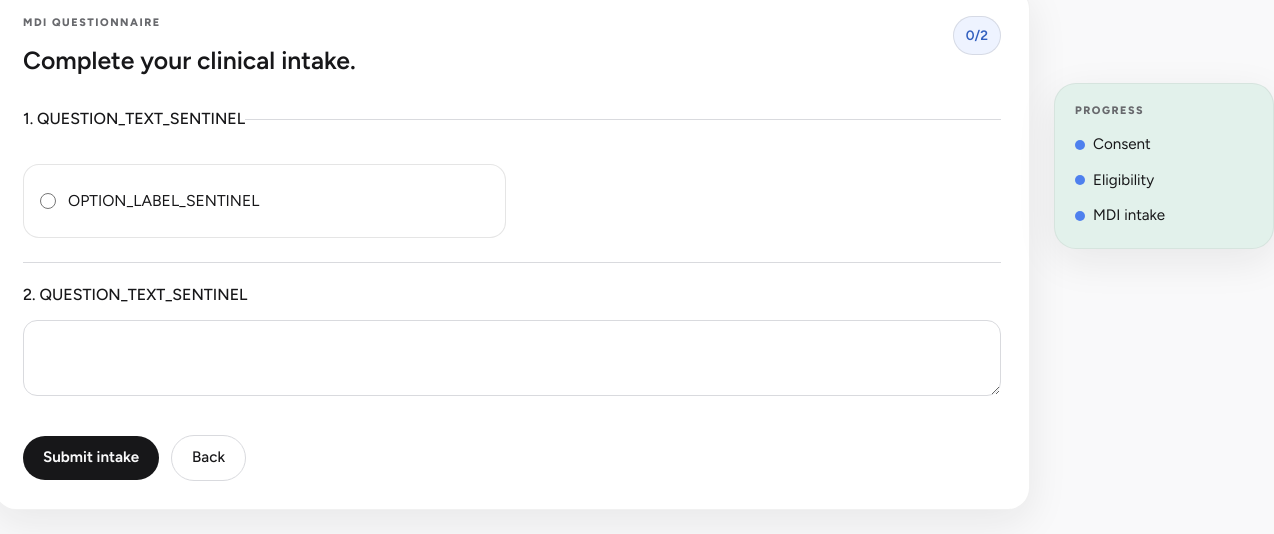
Test case: MDI intake page › renders fixture questions after bootstrap and submits transient responses with CSRF
Expected: the text "1. QUESTION_TEXT_SENTINEL" is shown, [23,108,245,132]
Click the radio button labelled "OPTION_LABEL_SENTINEL" at (48, 201), box [40,177,56,225]
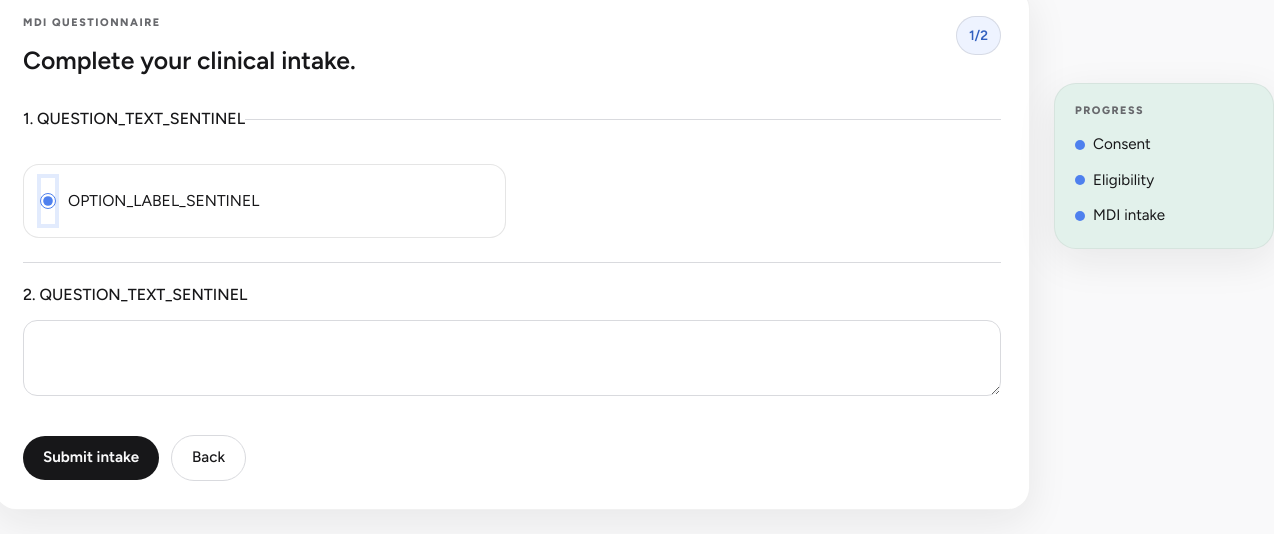
Type "ANSWER_VALUE_SENTINEL" into the text box labelled "2. QUESTION_TEXT_SENTINEL" at (512, 358), box [23,320,1001,396]
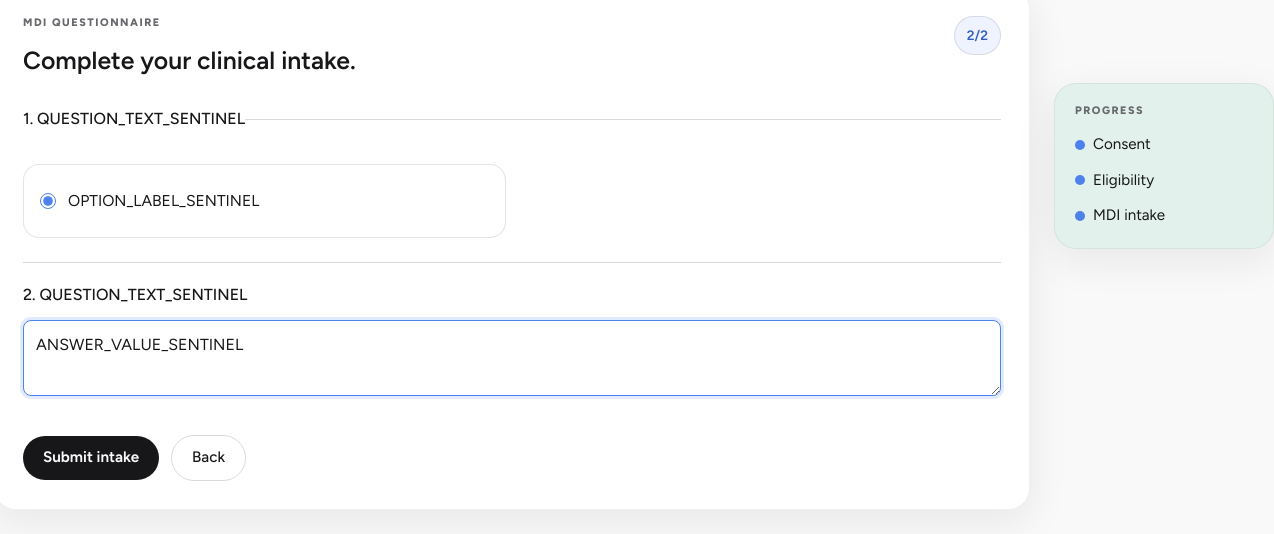
Click the button "Submit intake" at (91, 458), box [23,436,159,480]
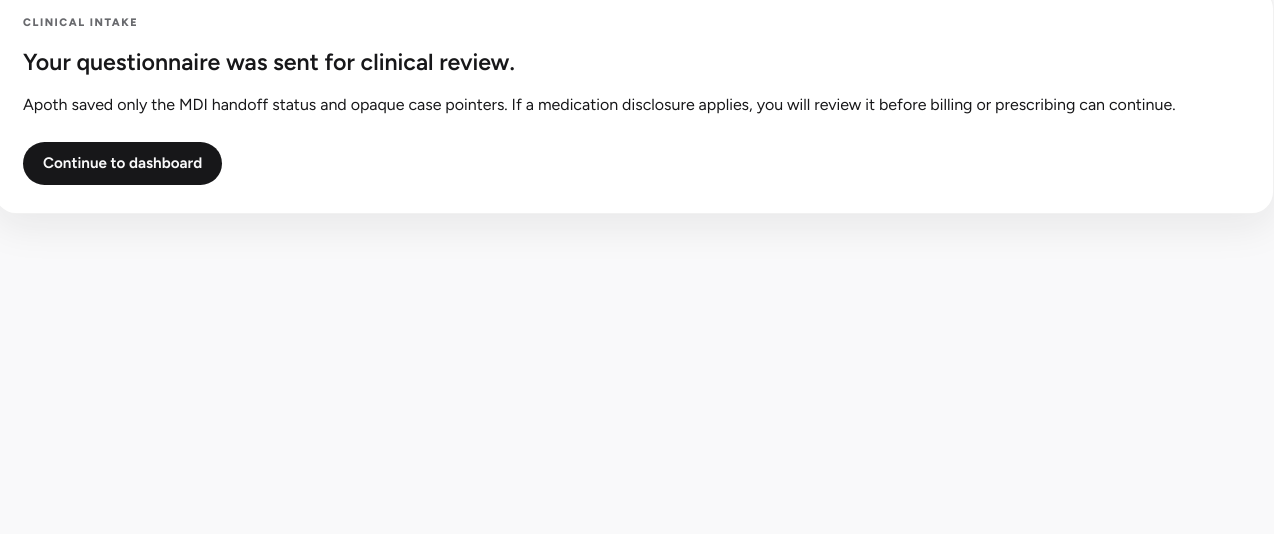
Result: the heading "Your questionnaire was sent for clinical review." is shown at [23,48,515,76]
Result: the text "If a medication disclosure applies" is shown at [23,95,1176,114]
Result: the text "QUESTION_TEXT_SENTINEL" is gone
